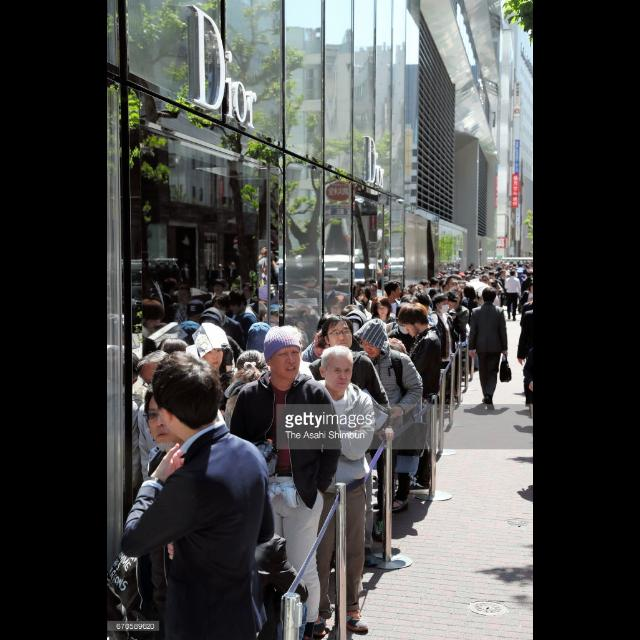head: (152, 352, 222, 438), (265, 328, 303, 379), (318, 344, 356, 394), (359, 320, 388, 358), (401, 303, 431, 339), (325, 316, 355, 350), (483, 288, 497, 304), (526, 271, 534, 279), (510, 270, 518, 276)
person: (293, 314, 395, 602), (335, 317, 425, 571), (301, 342, 377, 638), (386, 302, 448, 506), (468, 286, 514, 412), (506, 268, 524, 322)
